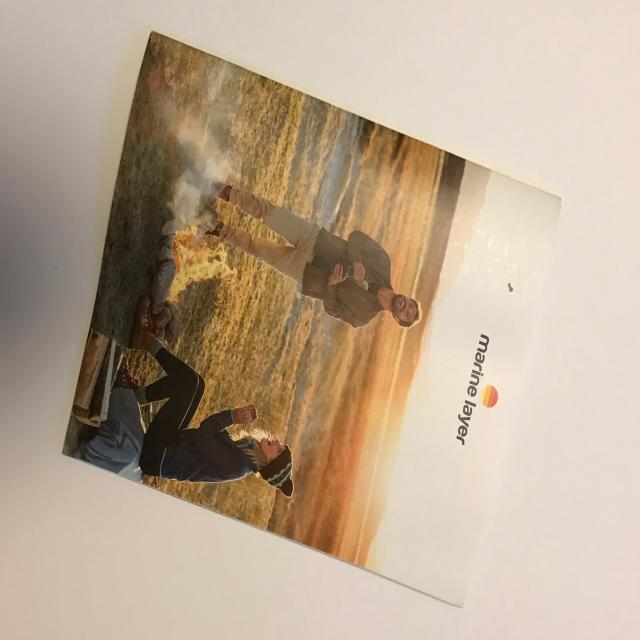paper: (59, 28, 564, 615)
